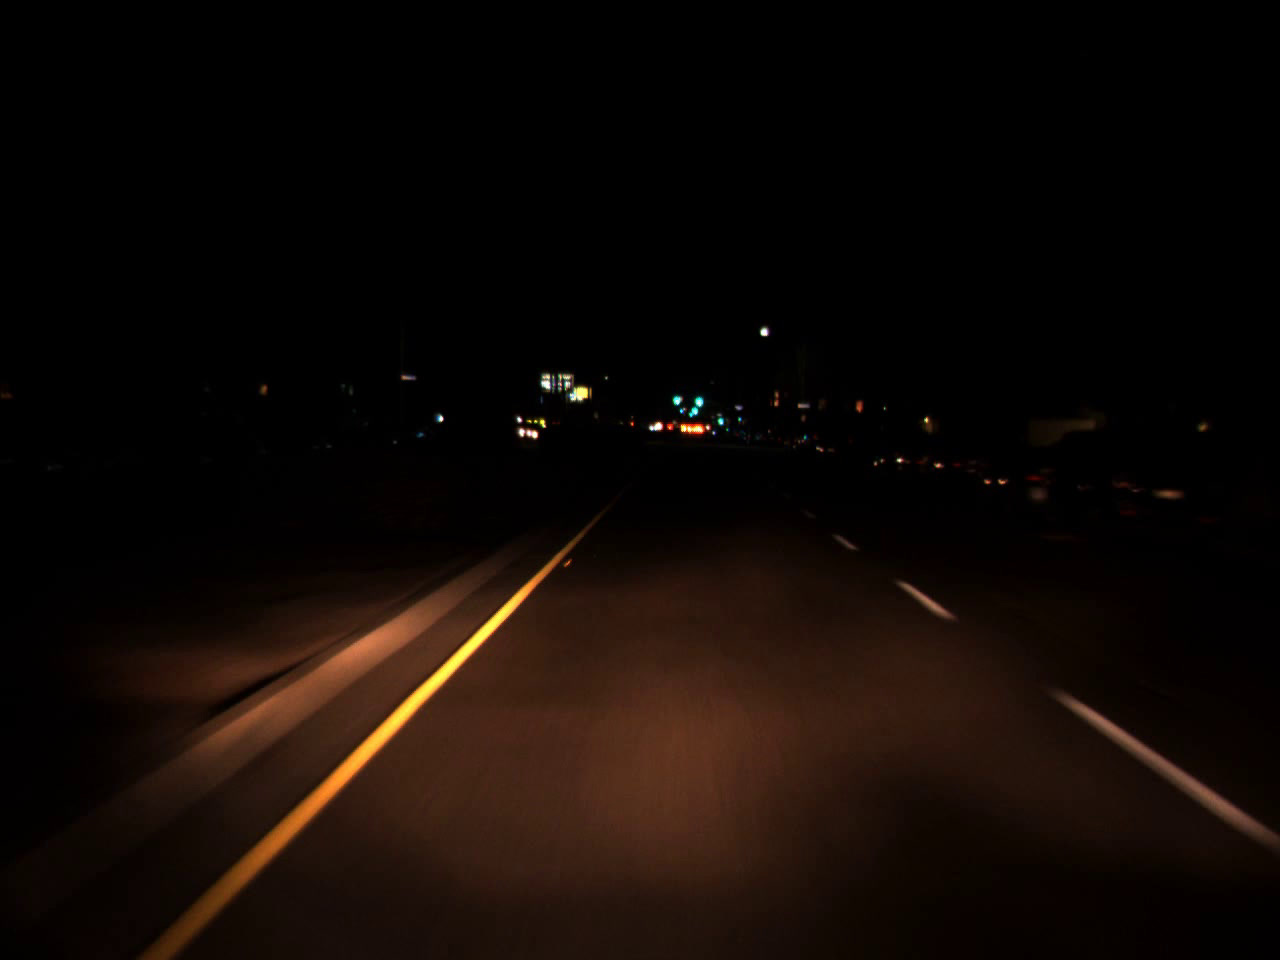go: (692, 386, 706, 410), (686, 399, 700, 417), (671, 388, 680, 406), (677, 401, 686, 416), (715, 413, 722, 425)
